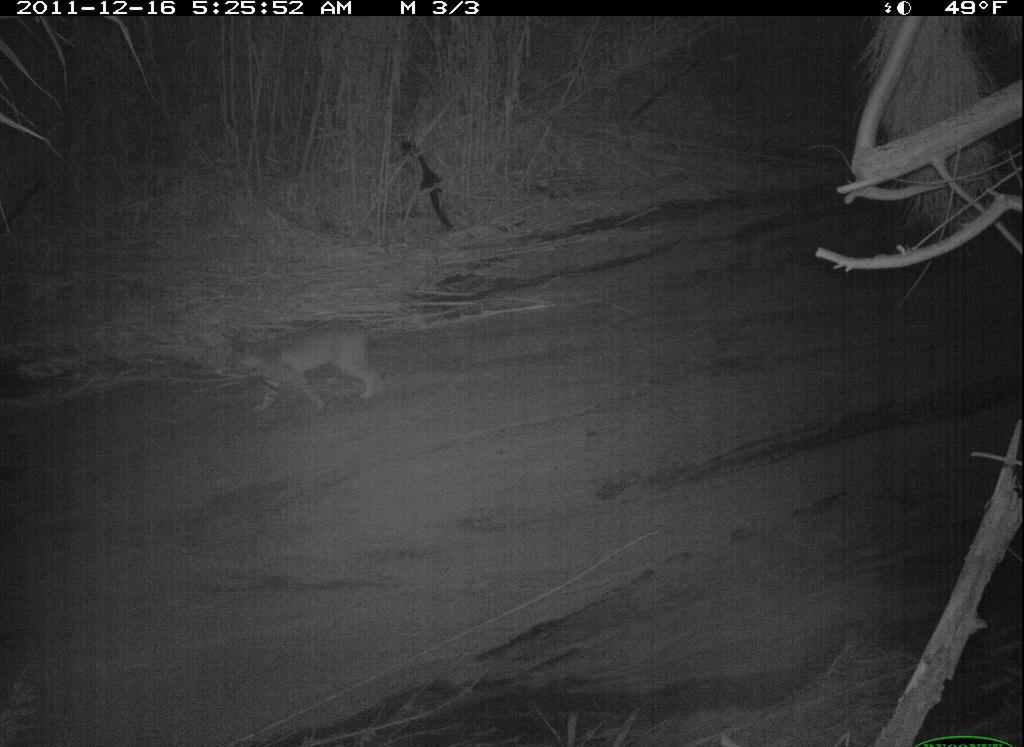bobcat: (212, 317, 391, 419)
